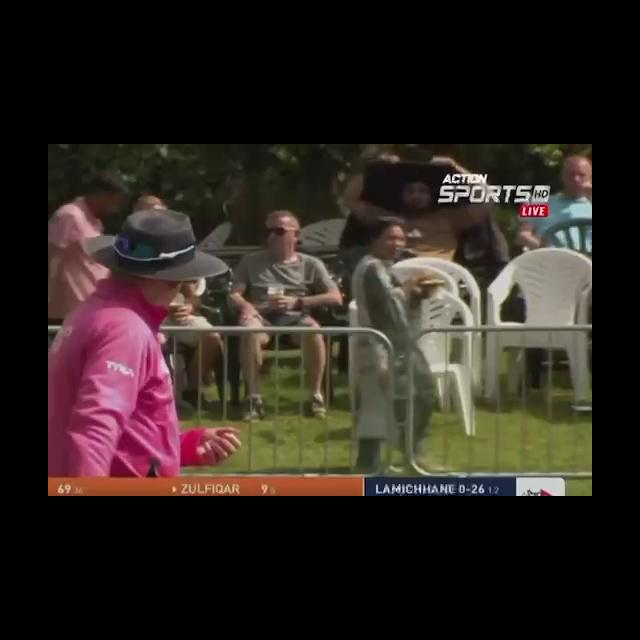umpire: (53, 179, 347, 468)
